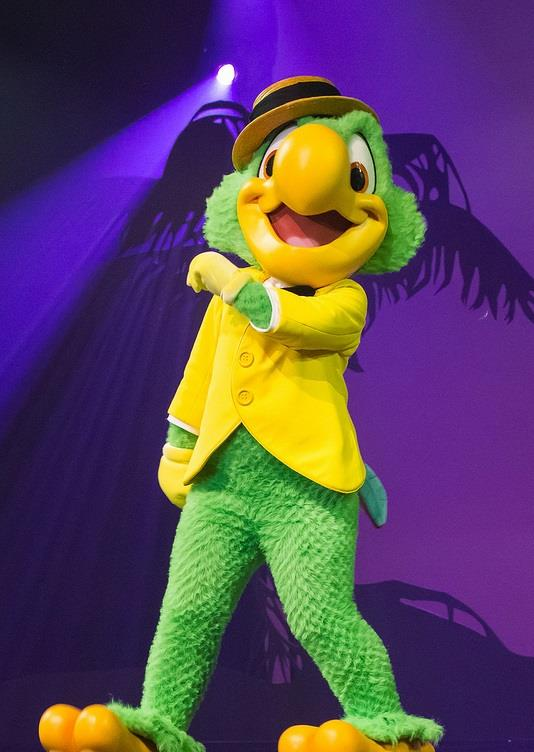Jose_Carioca: (119, 73, 442, 733)
